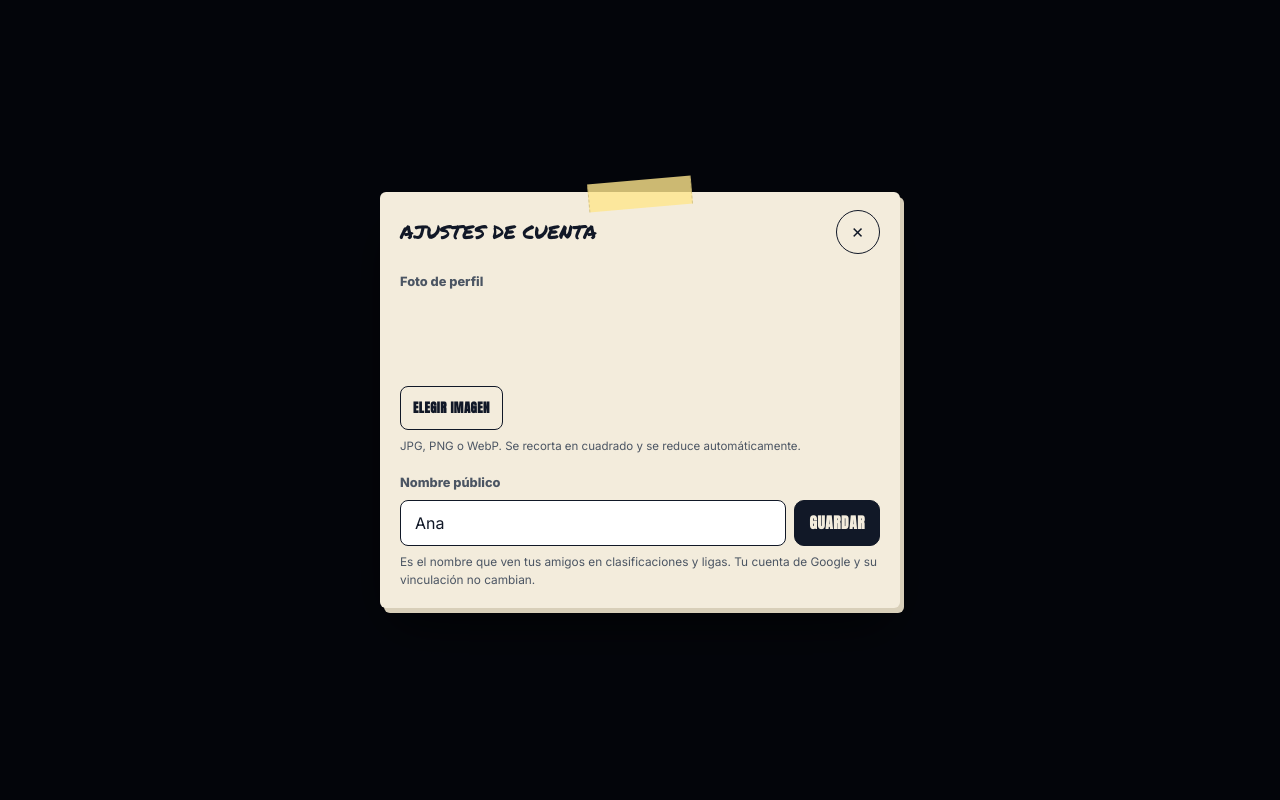
Test: blocks name editing and Escape while the profile update is pending
Replace the text in the field labelled "Nombre público" with "Ana nueva" at [593, 523], box [400, 500, 786, 546]
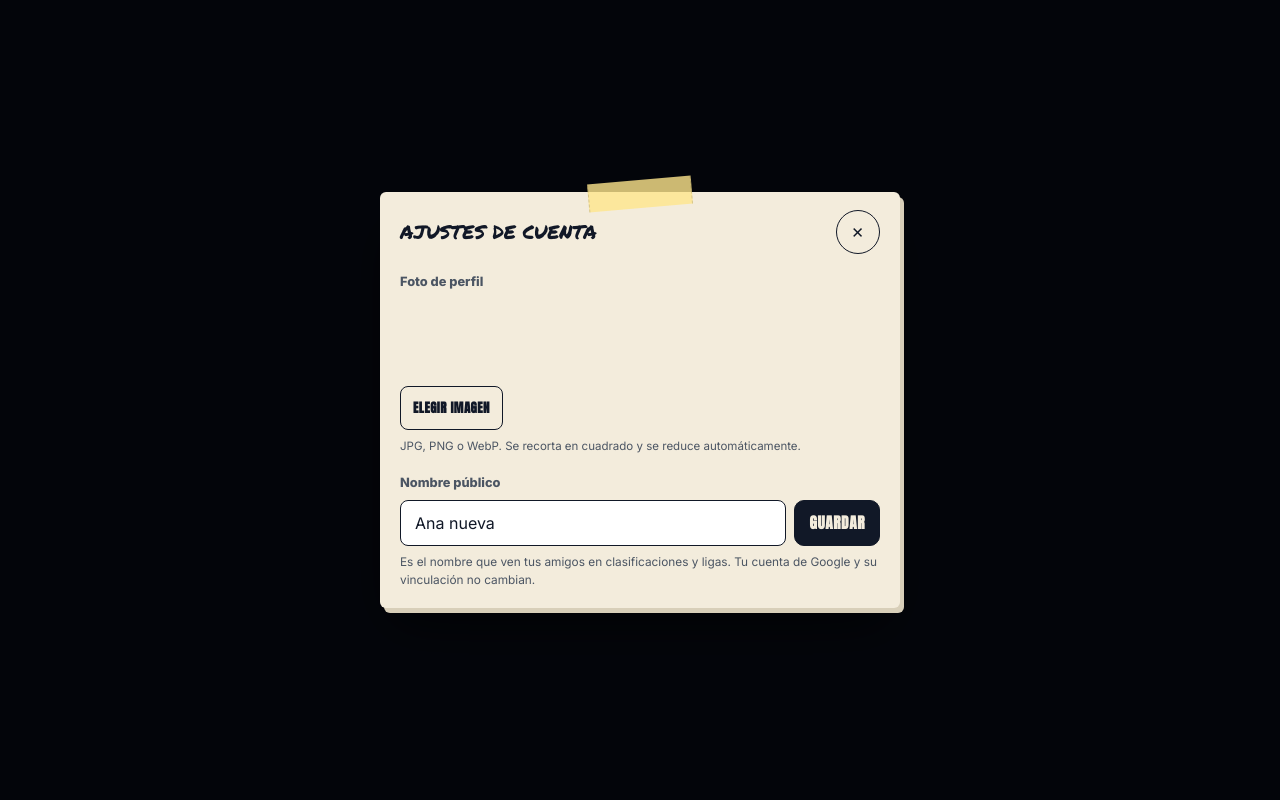
Click the button "Guardar" at [837, 523], box [794, 500, 880, 546]
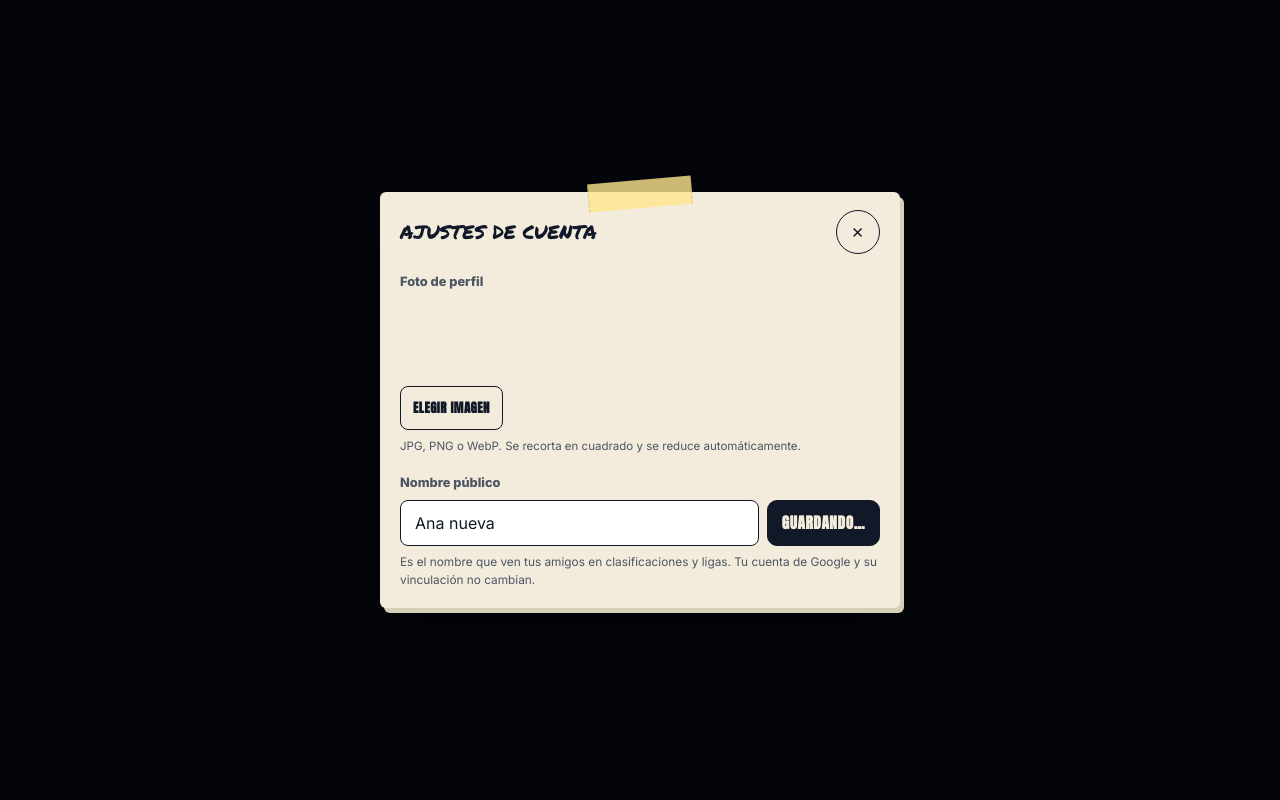
expect the field labelled "Nombre público" is disabled: met, box [400, 500, 759, 546]
Press Escape
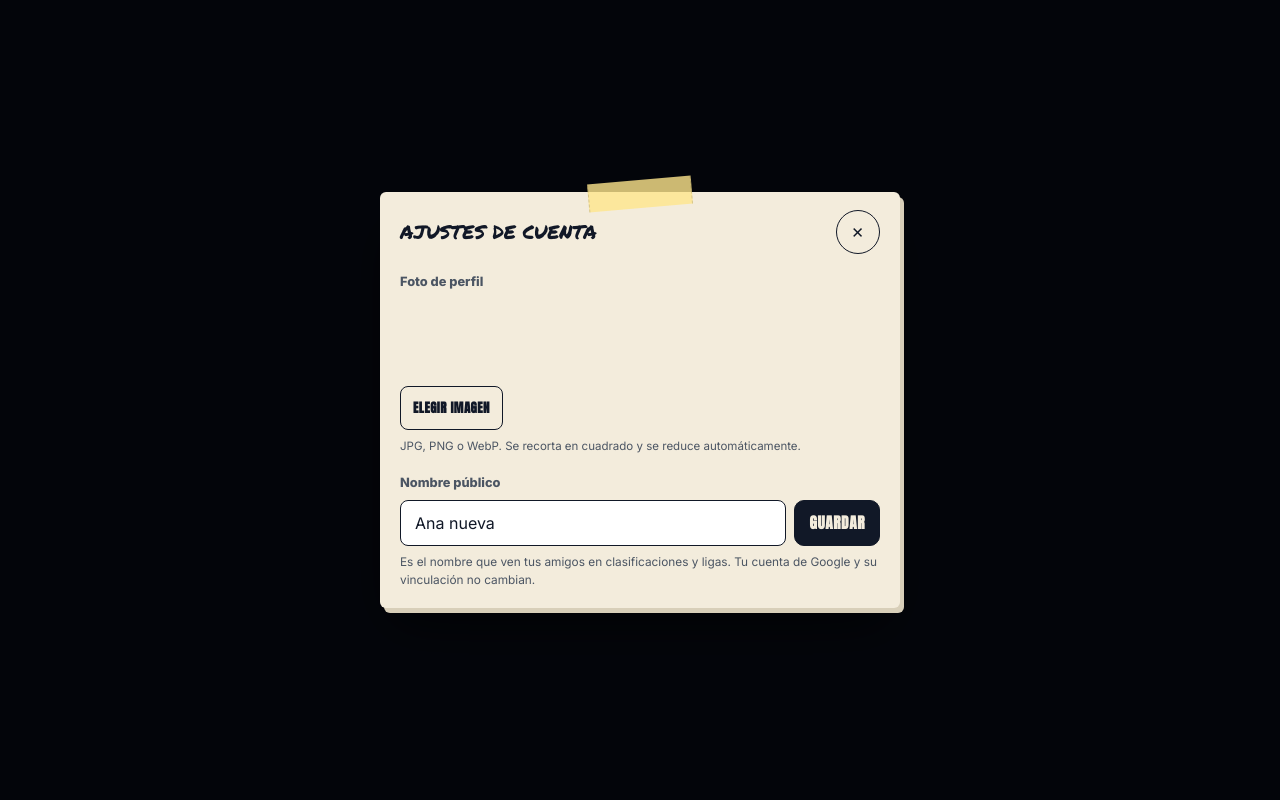
expect the field labelled "Nombre público" is enabled: met, box [400, 500, 786, 546]
